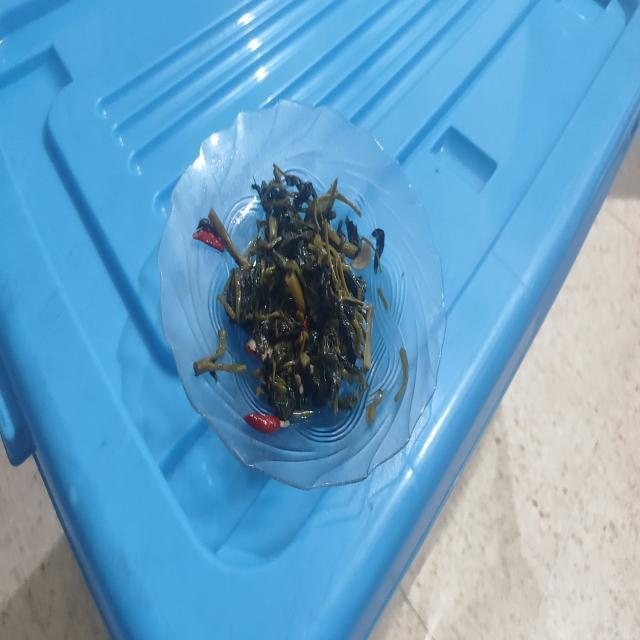tumis_kangkung: (200, 165, 379, 426)
